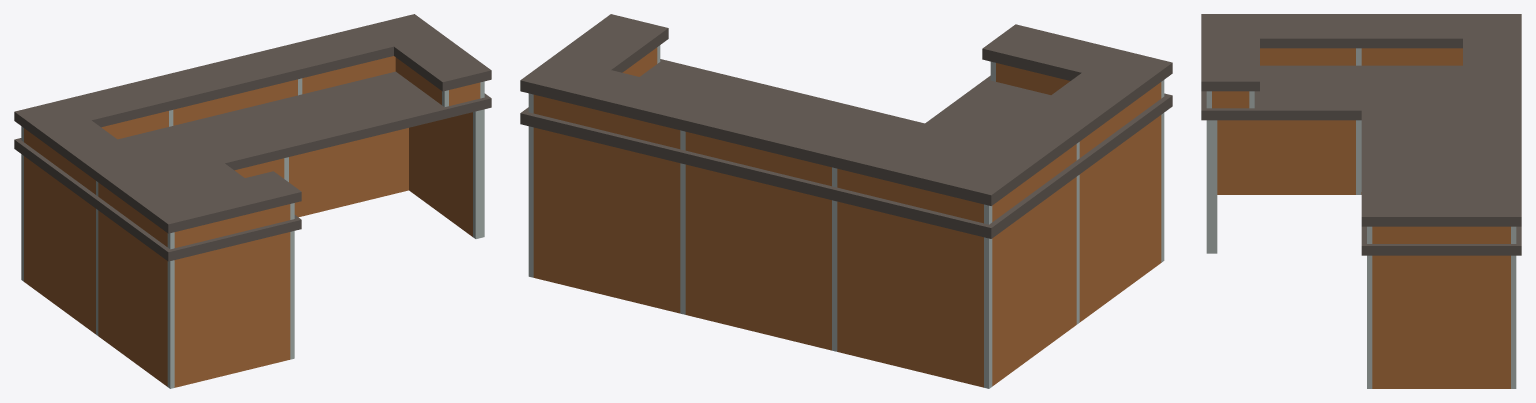
Rendered from counter_01.dae.
The picture shows the model from 3 angles, left to right: view 1: azimuth 30°, elevation 25°; view 2: azimuth 150°, elevation 25°; view 3: azimuth 270°, elevation 25°; orthographic projection. The views are drawn at different scales.
Visible parts, largest first — view 1: Untitled; view 2: Untitled; view 3: Untitled.
Boxes of the visible parts, x1,y1,x2,y2 form: Untitled: (14,14,491,388); Untitled: (520,14,1172,388); Untitled: (1201,14,1521,388).
Size of the model in its own units: 2.7 by 1.8 by 1.08.
1 material, 1 textured.
